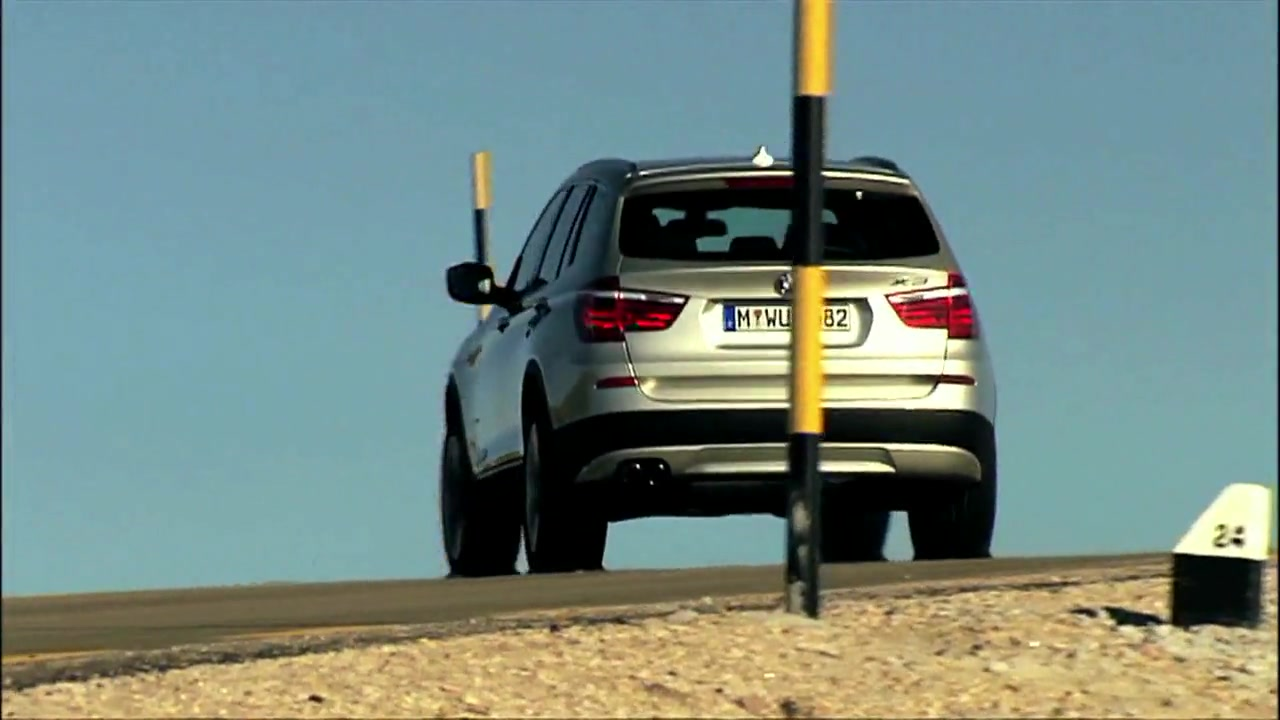car: (434, 154, 1000, 580)
